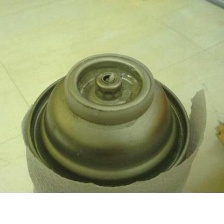aerosol_cans: (23, 44, 198, 224)
